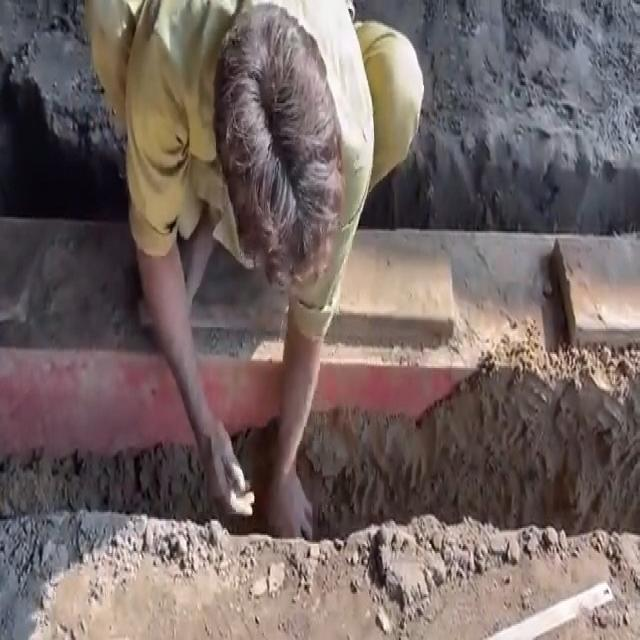dress: (78, 0, 423, 320)
